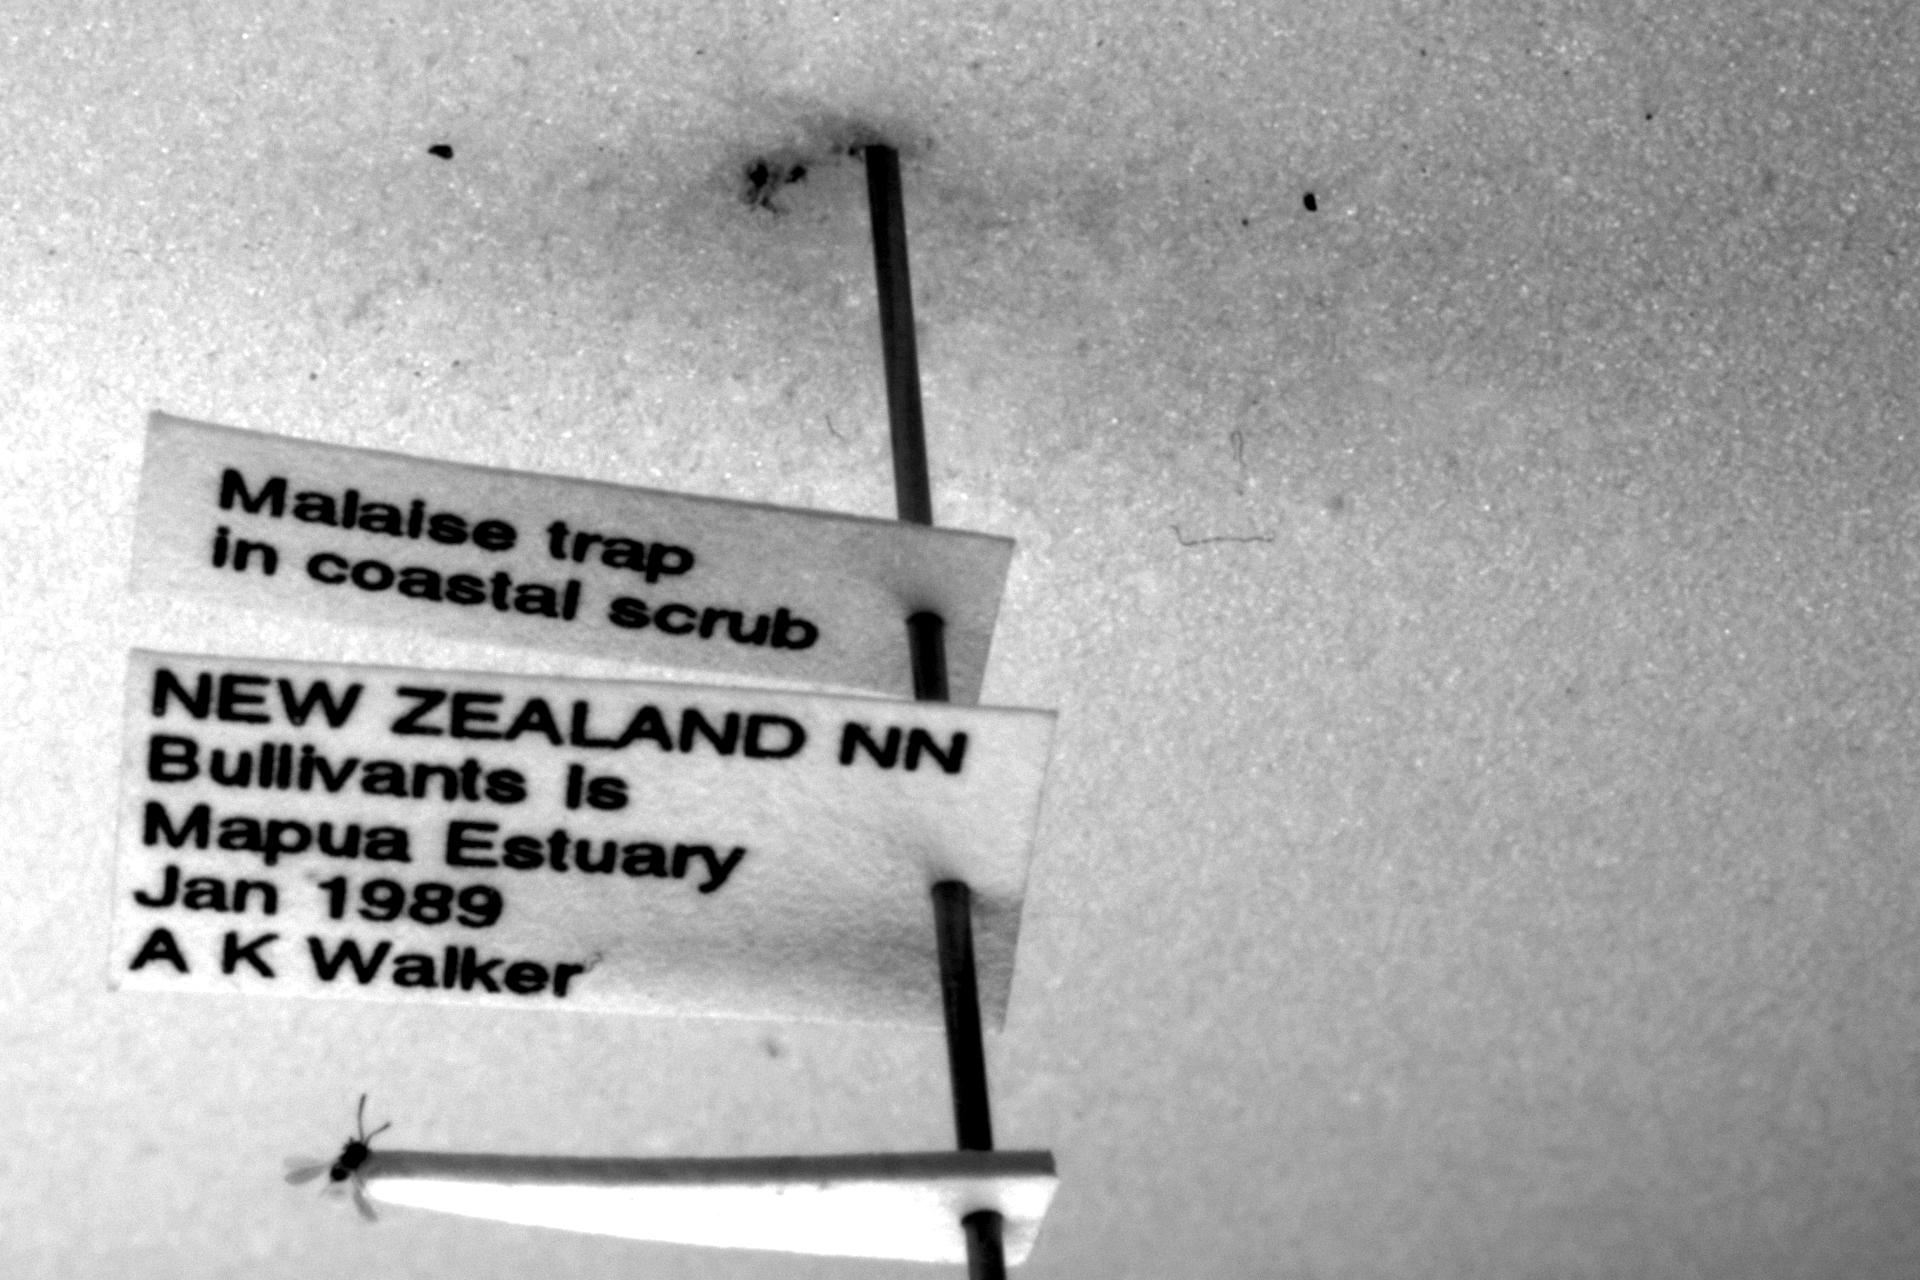typed_label: (113, 653, 1054, 1027), (131, 413, 1013, 706)
